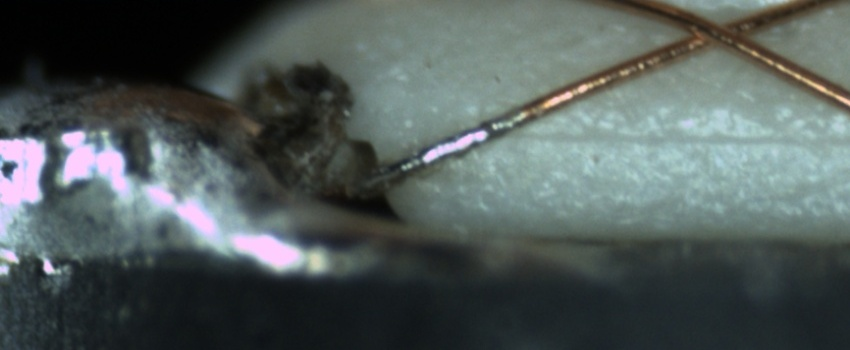CL: (654, 4, 774, 59)
DL: (497, 103, 850, 162)
TS: (332, 104, 526, 205)
